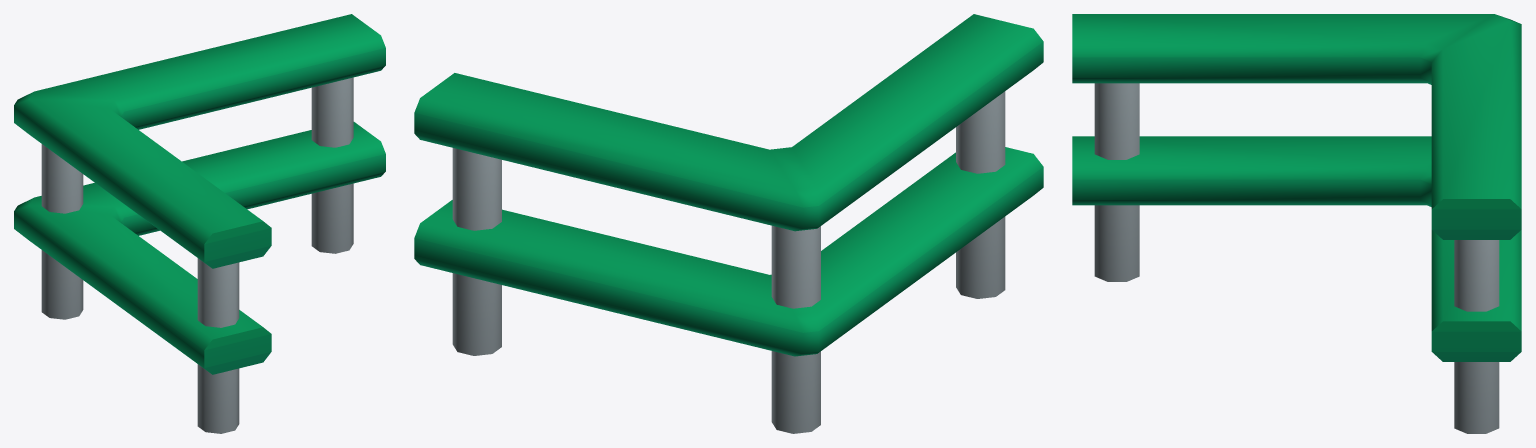
File: railing_corner_double_green.glb
3 renders of one model, left to right at view 1: azimuth 30°, elevation 25°; view 2: azimuth 150°, elevation 25°; view 3: azimuth 270°, elevation 25°, orthographic. The views are drawn at different scales.
Visible parts, largest first — view 1: railing_corner_double_green; view 2: railing_corner_double_green; view 3: railing_corner_double_green.
Boxes of the visible parts, x1,y1,x2,y2 form: railing_corner_double_green: [14, 14, 385, 433]; railing_corner_double_green: [414, 14, 1043, 433]; railing_corner_double_green: [1072, 14, 1521, 433].
Size of the model in its own units: 2 by 1.2 by 2.
1 material, 1 textured.
